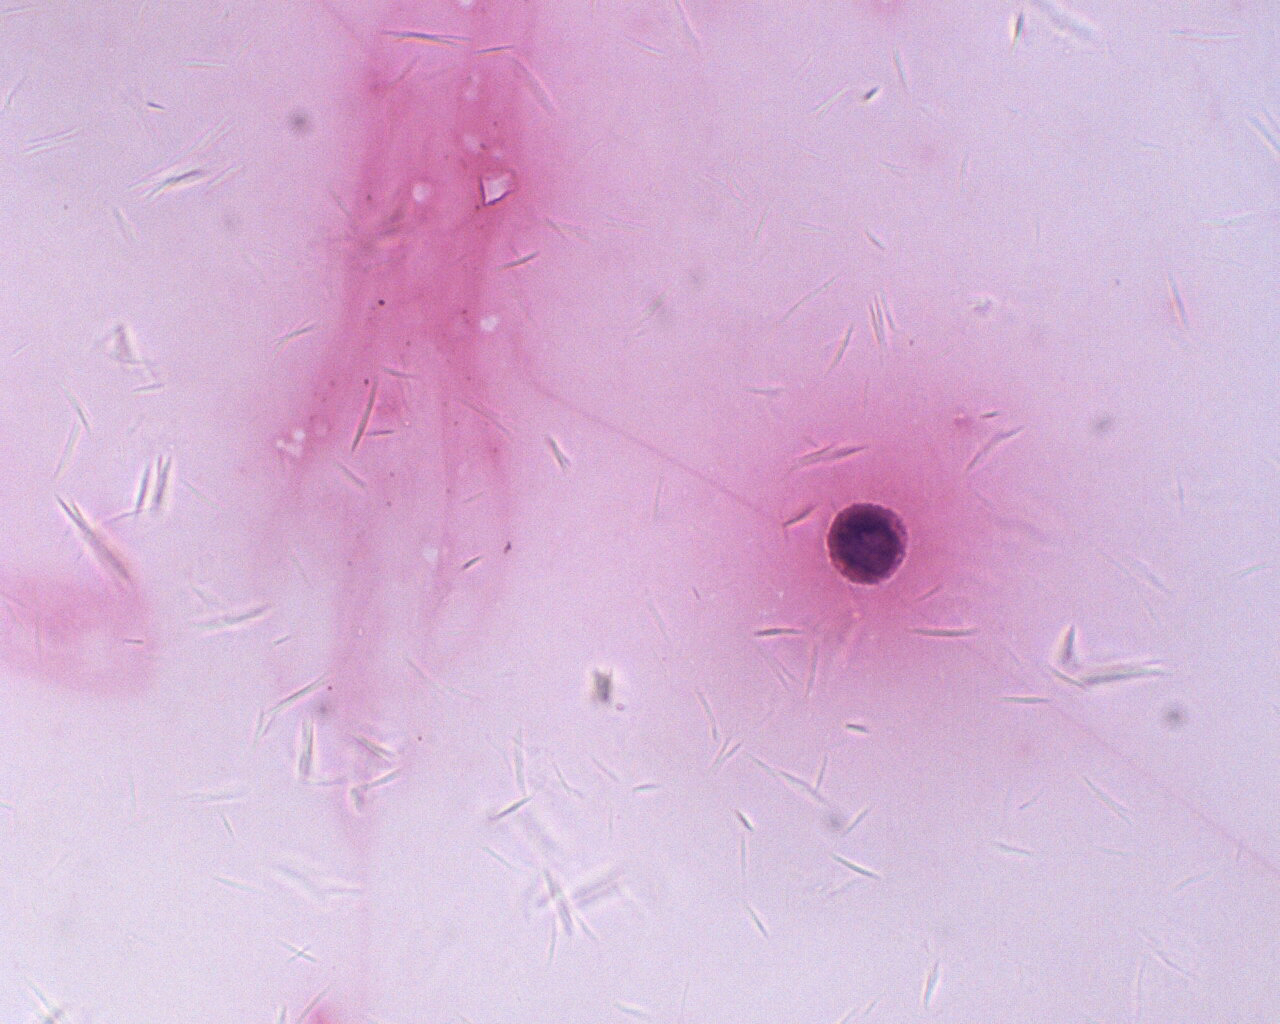ab: (820, 495, 915, 588)
